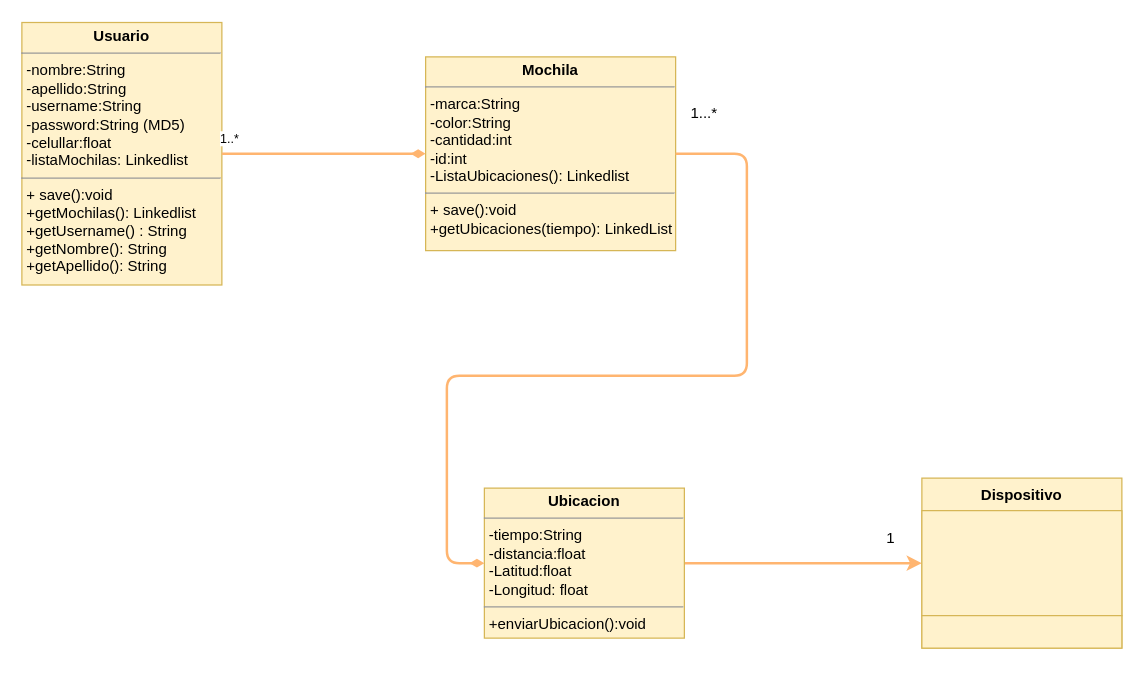
Some shapes in this 1144 by 673 pixel diagram are drawn without their labels. The box of each missing label's shape, as (x1, y1, x2, y2) in pixels:
-id:String -ubicacion:Ubicacion -fecha:String -modo:int -ubicacion:Ubicacion: (921, 509, 1122, 616)
-mostrasUbicacion():void: (921, 614, 1122, 648)
